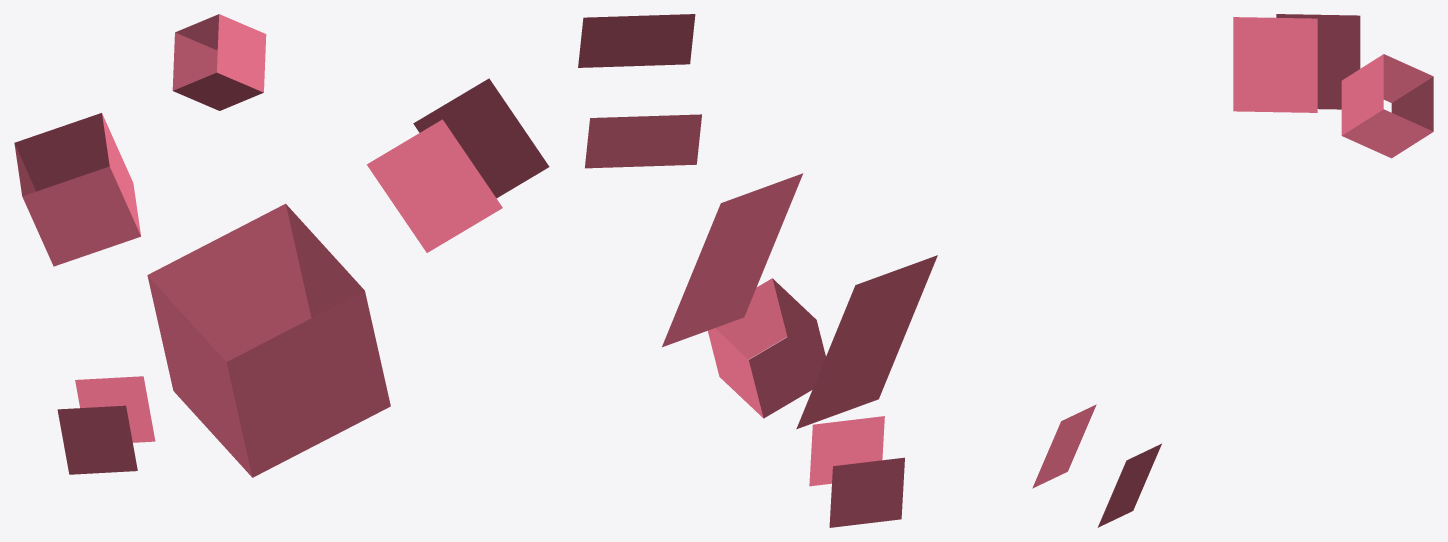
Rendered from dev_test_cube_destroyed.gltf.
3 renders of one model, left to right at view 1: azimuth 30°, elevation 25°; view 2: azimuth 150°, elevation 25°; view 3: azimuth 270°, elevation 25°, orthographic. The views are drawn at different scales.
Bounding box in the file's own units: 1.5 × 1.31 × 1.11.
